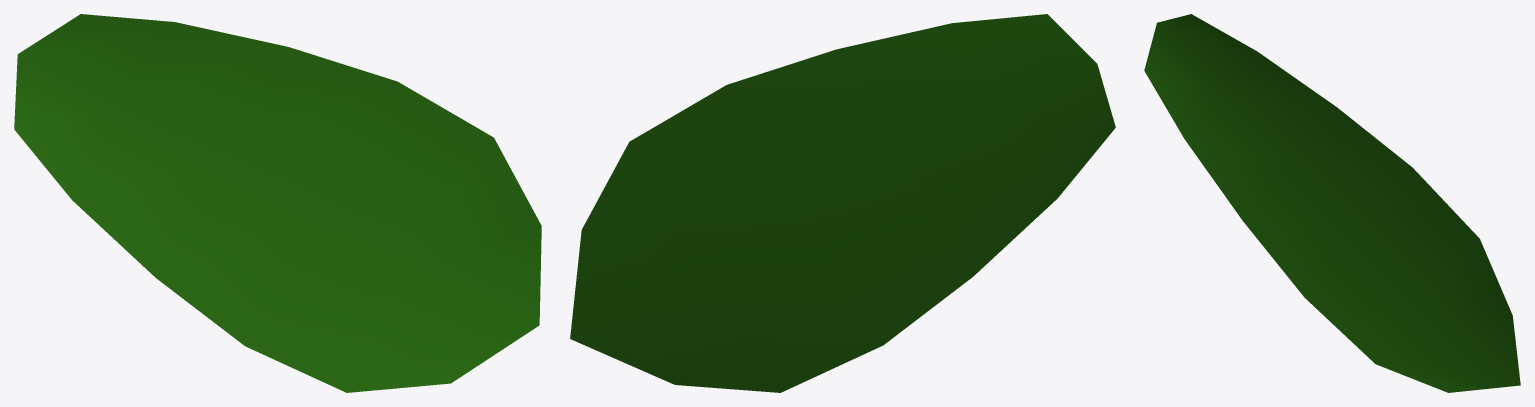
The model's file is lovebird_feather_flight_tertiary_060.001.obj.
3 views of the same model, side by side, from view 1: azimuth 30°, elevation 25°; view 2: azimuth 150°, elevation 25°; view 3: azimuth 330°, elevation 25° (orthographic). The views are drawn at different scales.
Visible parts, largest first — view 1: feather_flight_tertiary_060.001; view 2: feather_flight_tertiary_060.001; view 3: feather_flight_tertiary_060.001.
Part boxes in pixels (x1=…): feather_flight_tertiary_060.001: x1=14, y1=14, x2=541, y2=392; feather_flight_tertiary_060.001: x1=570, y1=14, x2=1115, y2=392; feather_flight_tertiary_060.001: x1=1144, y1=14, x2=1520, y2=392.
Bounding box in the file's own units: 0.00691 × 0.00568 × 0.000246.
